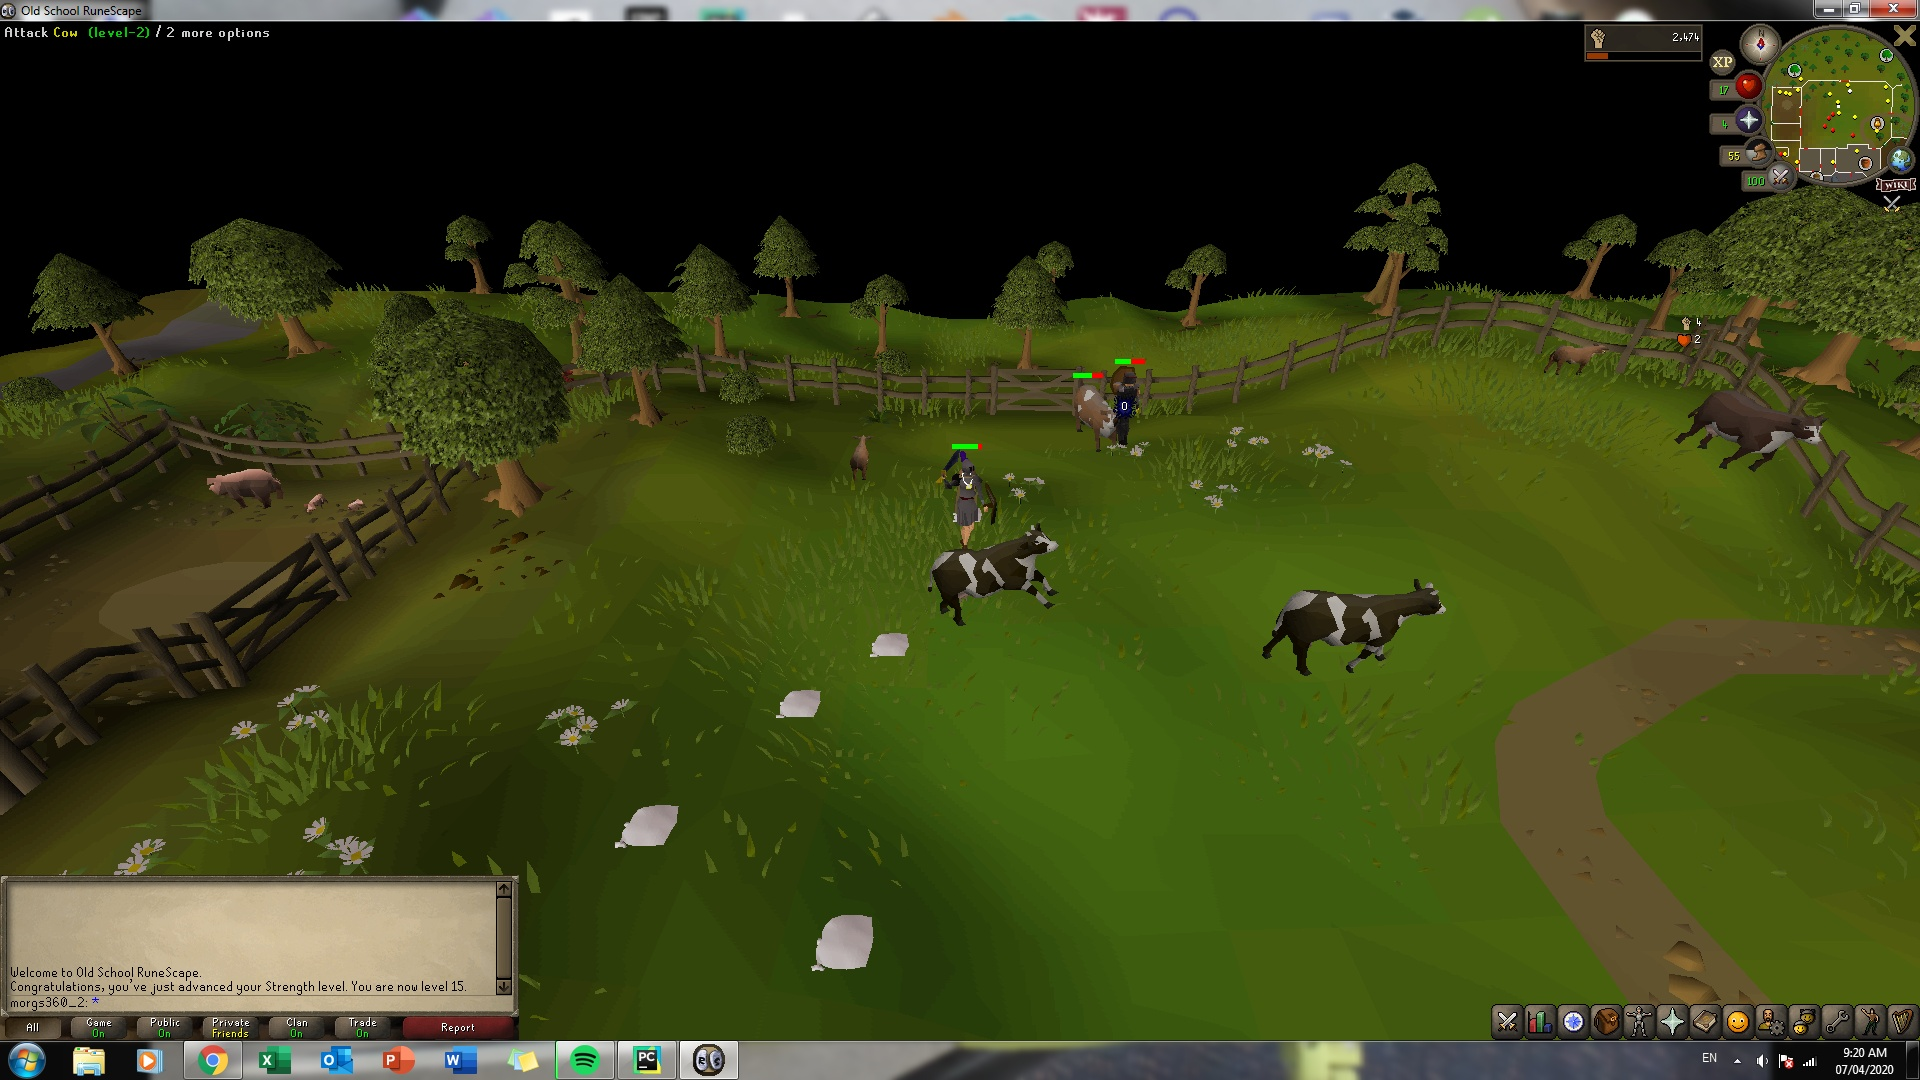cow: (1259, 568, 1447, 681), (1671, 379, 1824, 474), (922, 525, 1062, 625), (1073, 381, 1116, 450), (1542, 342, 1605, 381), (847, 429, 873, 486)
player: (945, 450, 986, 553)
